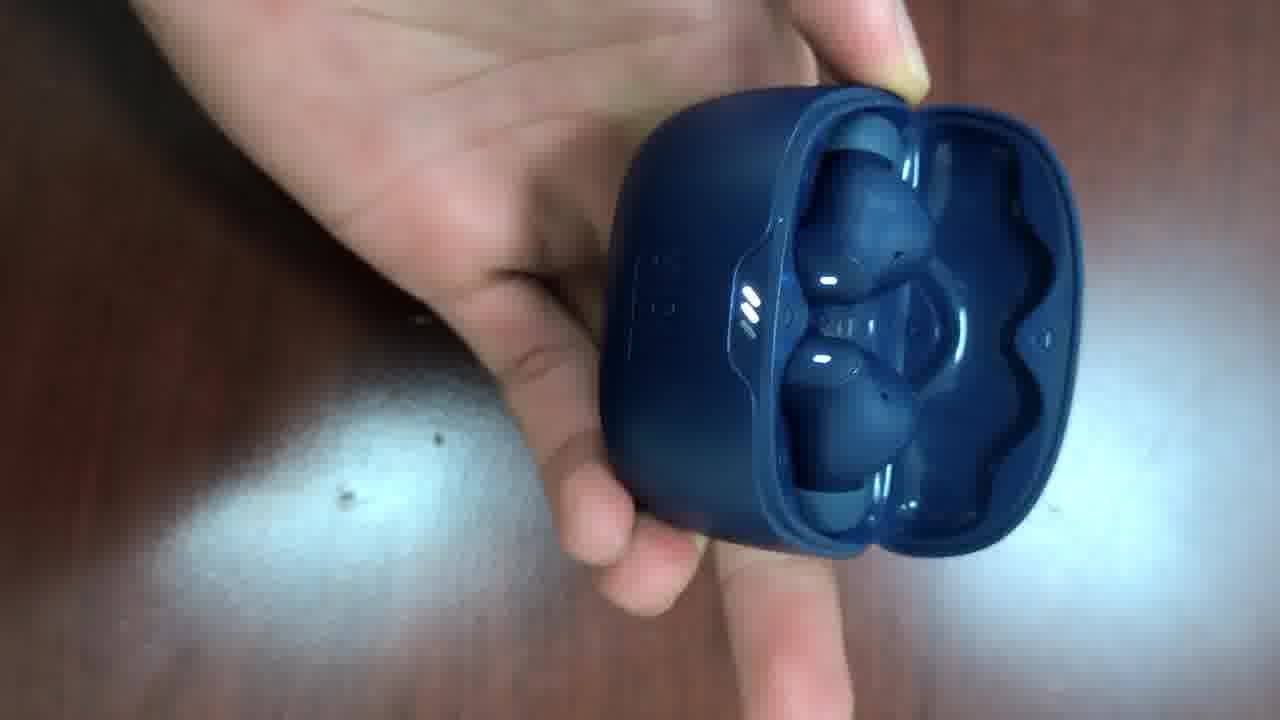Case: (600, 85, 1080, 555)
Earbud: (794, 113, 933, 301), (781, 336, 917, 491)
